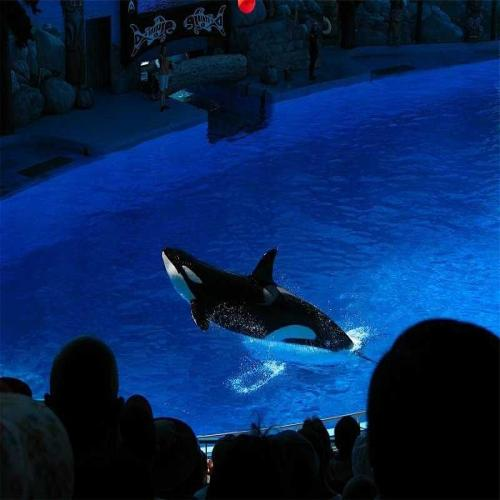killer_whale-endangered: (149, 217, 366, 387)
